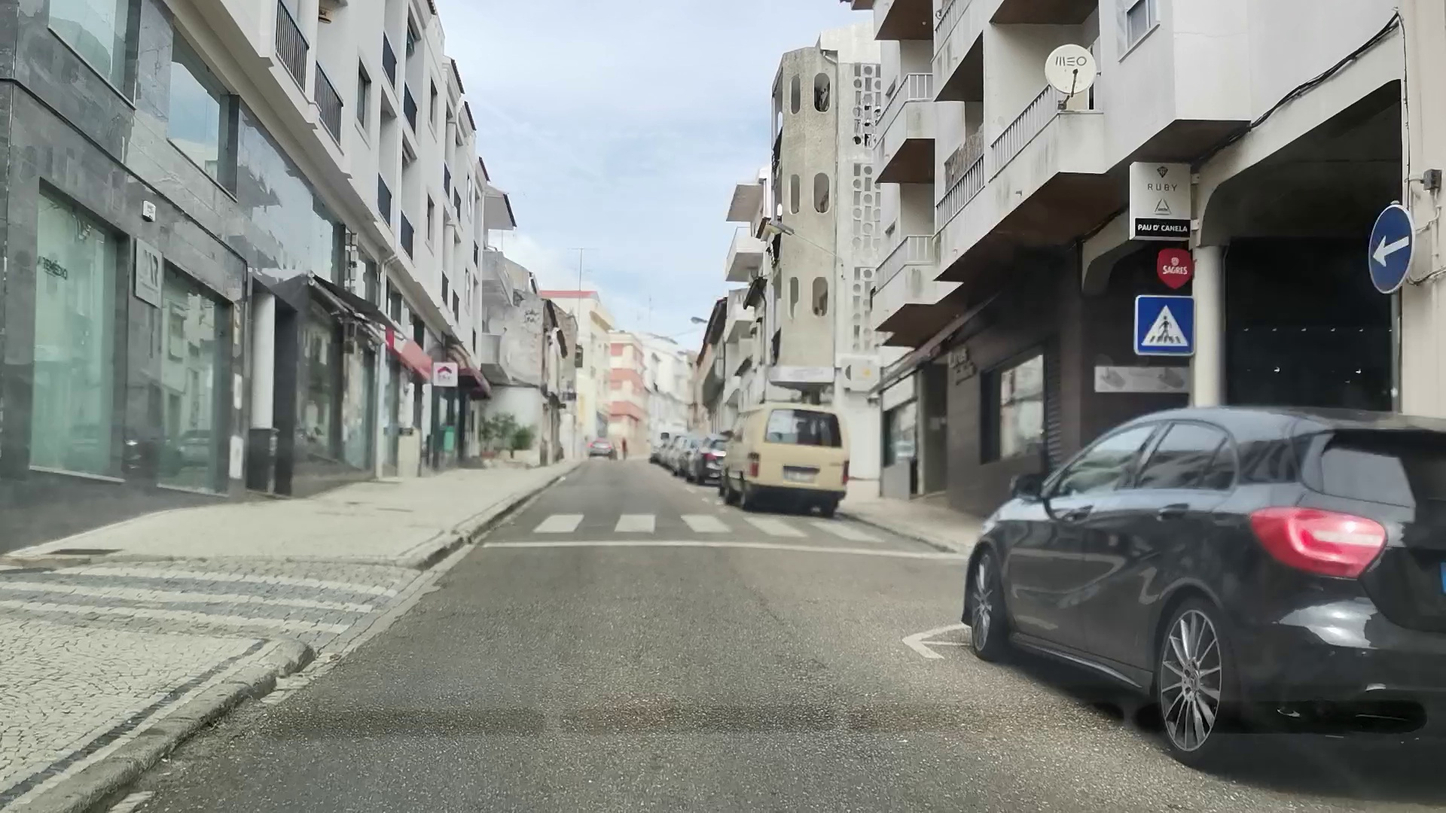Stairs: (527, 509, 896, 538)
